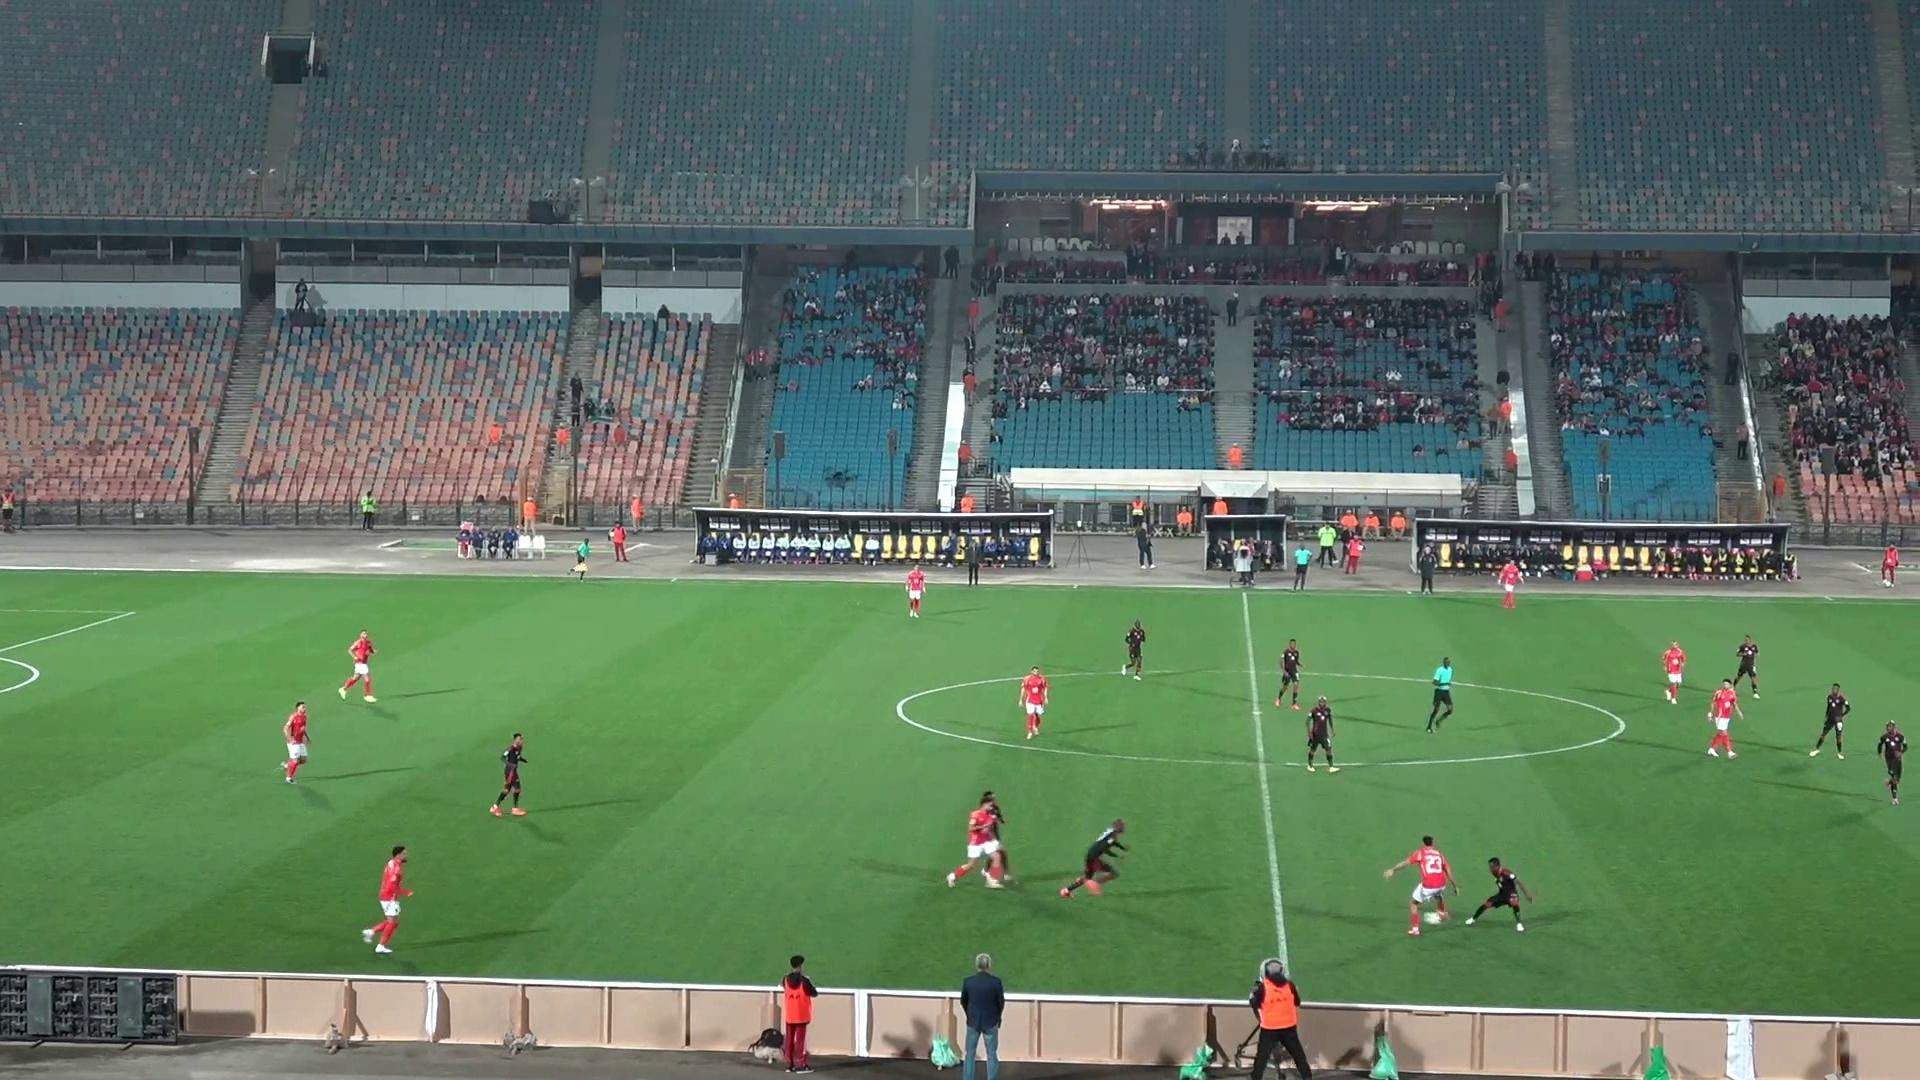Ball: (1424, 910, 1443, 926)
Refree: (1425, 657, 1455, 732), (1291, 542, 1313, 589), (568, 539, 591, 580)
Team1: (1385, 836, 1453, 935), (945, 791, 1007, 887), (363, 847, 411, 953), (1706, 680, 1743, 757), (339, 630, 375, 702), (1019, 667, 1048, 738), (284, 702, 309, 783), (905, 553, 930, 621), (1663, 641, 1687, 703), (1497, 558, 1520, 608)
Team2: (1058, 820, 1127, 898), (1466, 857, 1532, 932), (1808, 683, 1850, 758), (491, 733, 526, 816), (1876, 721, 1905, 804), (1307, 698, 1338, 771), (1273, 640, 1302, 705), (1733, 636, 1759, 698), (1121, 618, 1146, 679)
